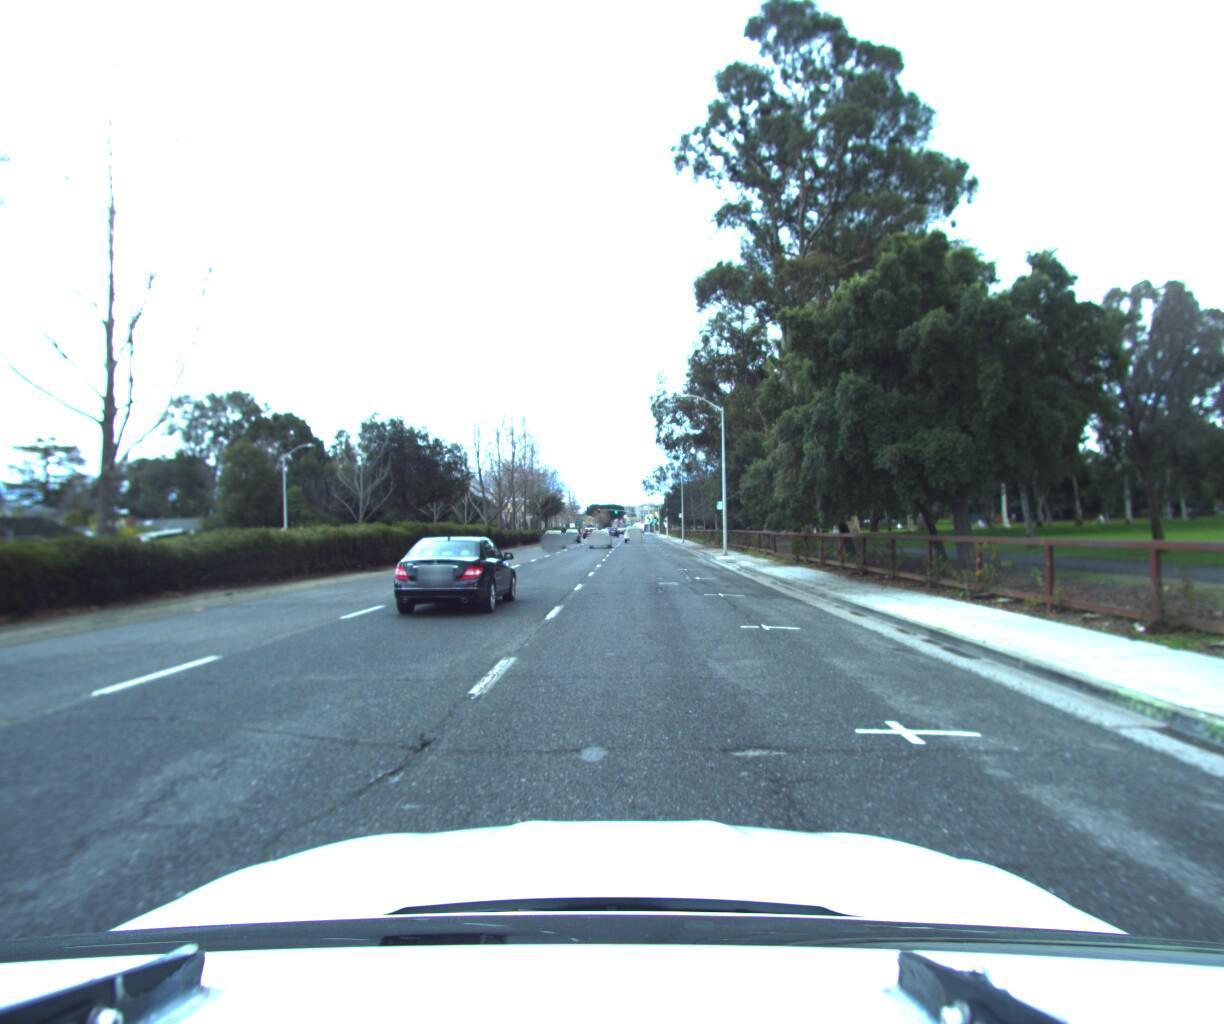car: (383, 531, 522, 620), (587, 523, 613, 542), (540, 527, 566, 546), (625, 525, 642, 541)
